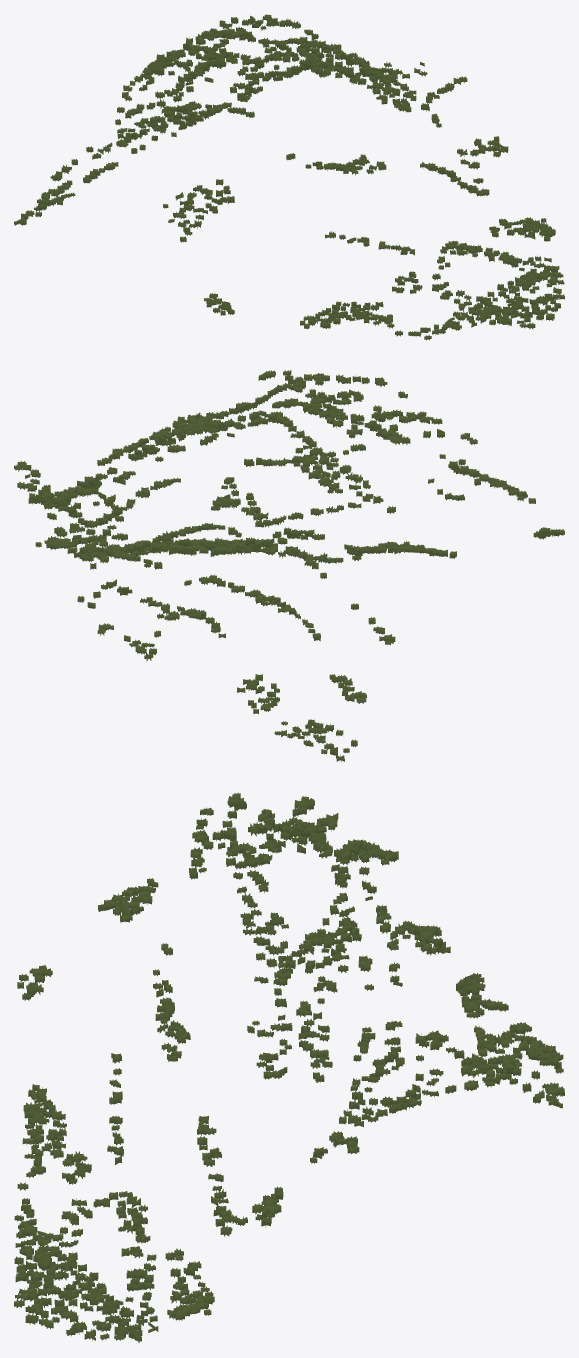
File: TRB8-GRASS-CHUNK-7-0.glb
3 views of the same model, one above another, from view 1: azimuth 30°, elevation 25°; view 2: azimuth 150°, elevation 25°; view 3: azimuth 270°, elevation 25° (orthographic). The views are drawn at different scales.
Visible parts, largest first — view 1: TRB8-GRASS-CHUNK-7-0; view 2: TRB8-GRASS-CHUNK-7-0; view 3: TRB8-GRASS-CHUNK-7-0.
Part boxes in pixels (bbox=[...]): TRB8-GRASS-CHUNK-7-0: bbox=[14, 14, 564, 340]; TRB8-GRASS-CHUNK-7-0: bbox=[14, 370, 564, 762]; TRB8-GRASS-CHUNK-7-0: bbox=[14, 792, 564, 1342].
Size of the model in its own units: 33.34 by 21.94 by 29.33.
Materials: 1 (1 with a texture image).
